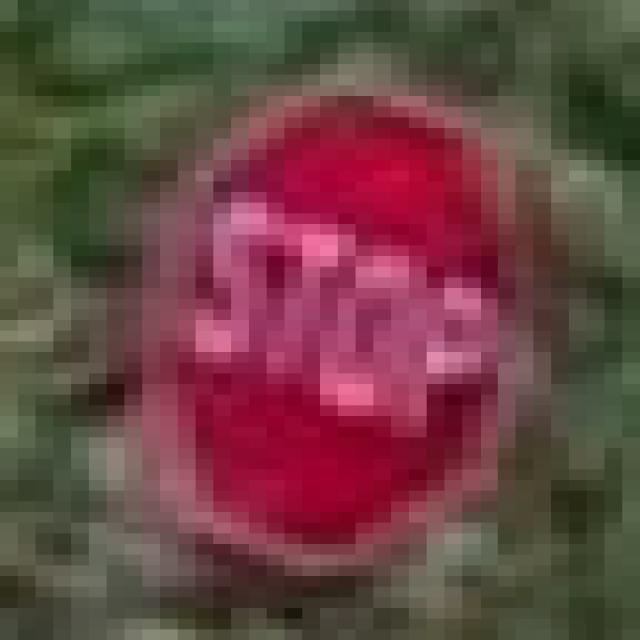Stop-Sign: (158, 102, 498, 564)
